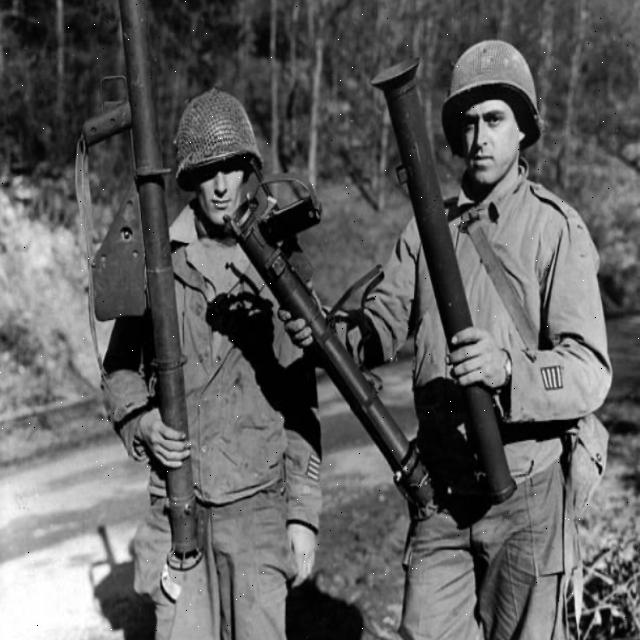bazooka: (222, 192, 450, 532), (373, 50, 521, 510), (115, 1, 209, 569)
